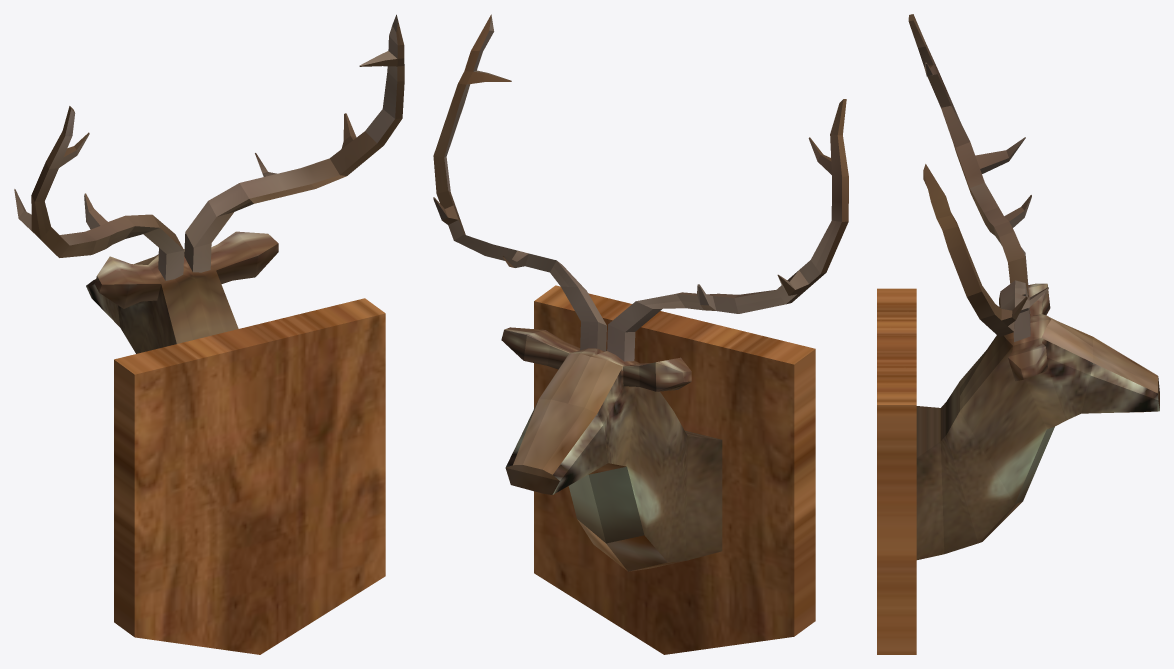
File: animal.fbx
3 renders of one model, left to right at view 1: azimuth 30°, elevation 25°; view 2: azimuth 150°, elevation 25°; view 3: azimuth 270°, elevation 25°, orthographic. The views are drawn at different scales.
Parts seen in each view (by area): view 1: veado; view 2: veado; view 3: veado.
Part boxes in pixels (<box>): veado: <box>14,14,404,654</box>; veado: <box>433,14,848,654</box>; veado: <box>877,14,1159,654</box>.
Bounding box in the file's own units: 177 × 258 × 120.
1 material, 1 textured.
